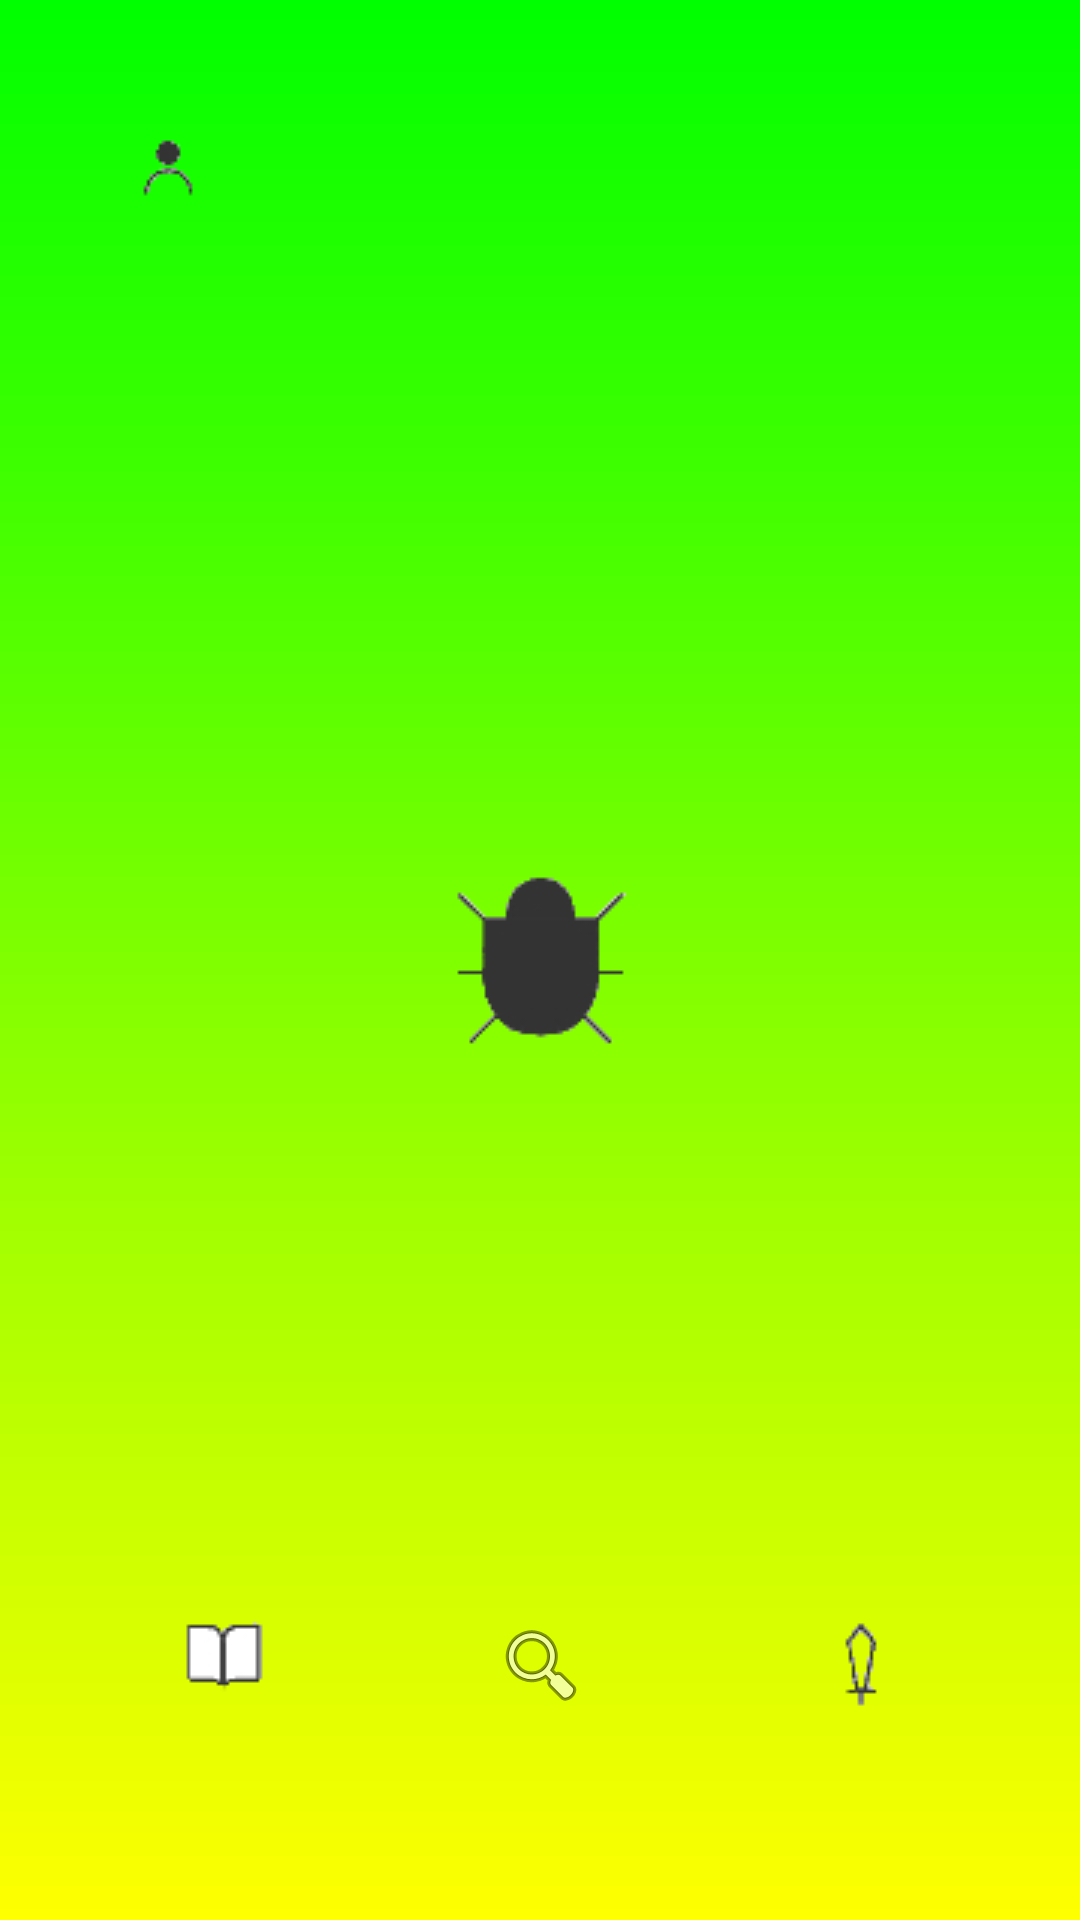

Point at icon controls on the screen. Image size 1080x1920, points as [x,y].
dictionary: [224,1655]
